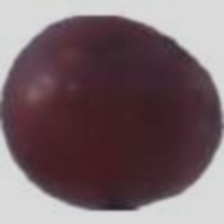grapes: (46, 51, 190, 199)
